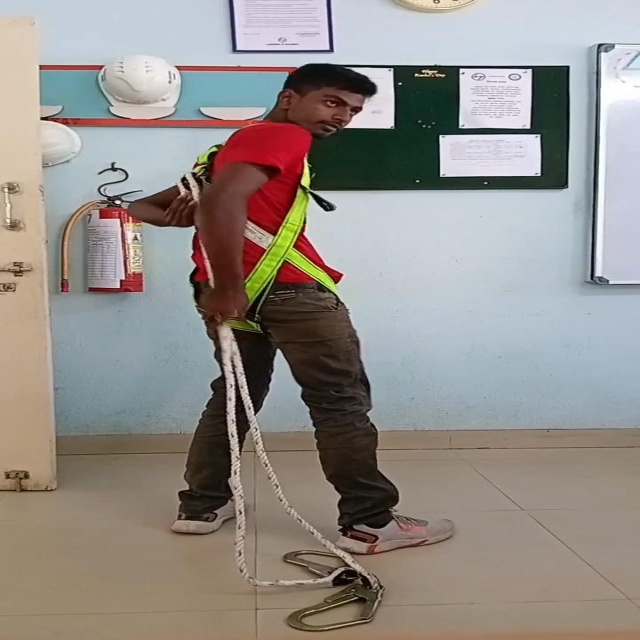Arnes_seguridad: (183, 119, 347, 334)
